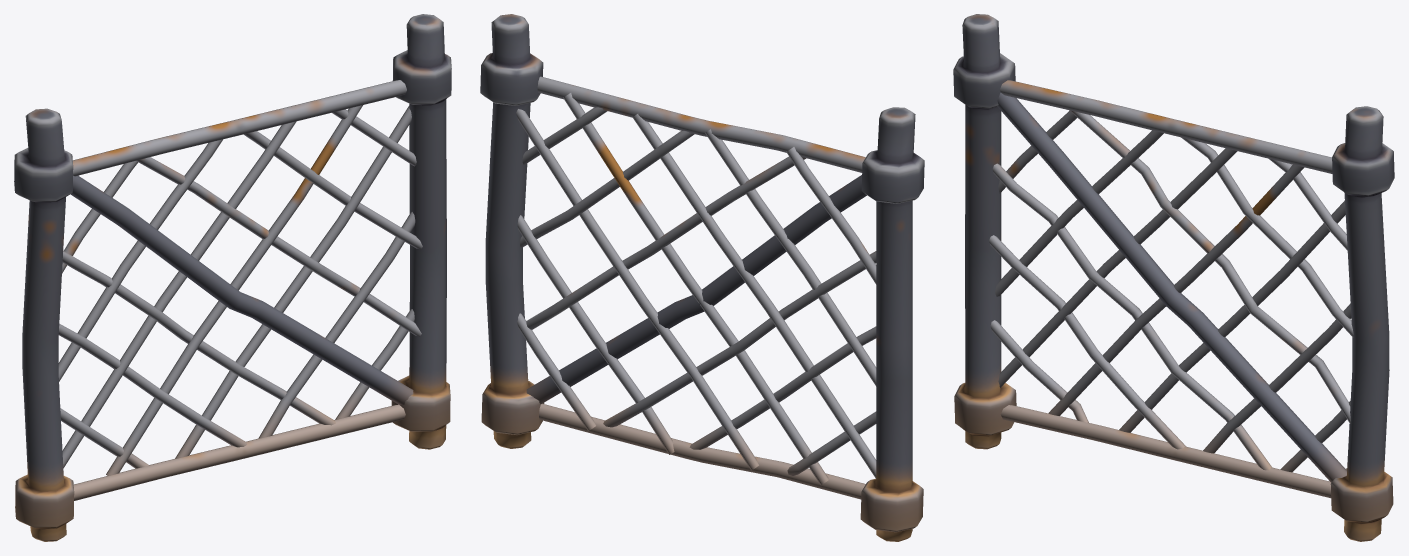
Rendered from Fence_01.fbx.
The picture shows the model from 3 angles, left to right: view 1: azimuth 30°, elevation 25°; view 2: azimuth 150°, elevation 25°; view 3: azimuth 330°, elevation 25°; orthographic projection.
Parts seen in each view (by area): view 1: Fence_01; view 2: Fence_01; view 3: Fence_01.
Part boxes in pixels (left/top/right/bottom): Fence_01: left=14, top=14, right=451, bottom=541; Fence_01: left=480, top=14, right=924, bottom=541; Fence_01: left=953, top=14, right=1394, bottom=541.
Size of the model in its own units: 43.63 by 40.57 by 5.55.
